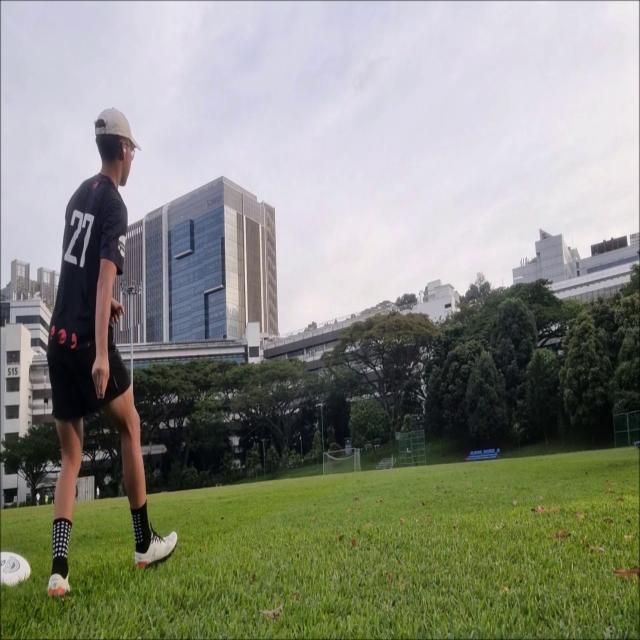disc: (512, 275, 525, 281)
